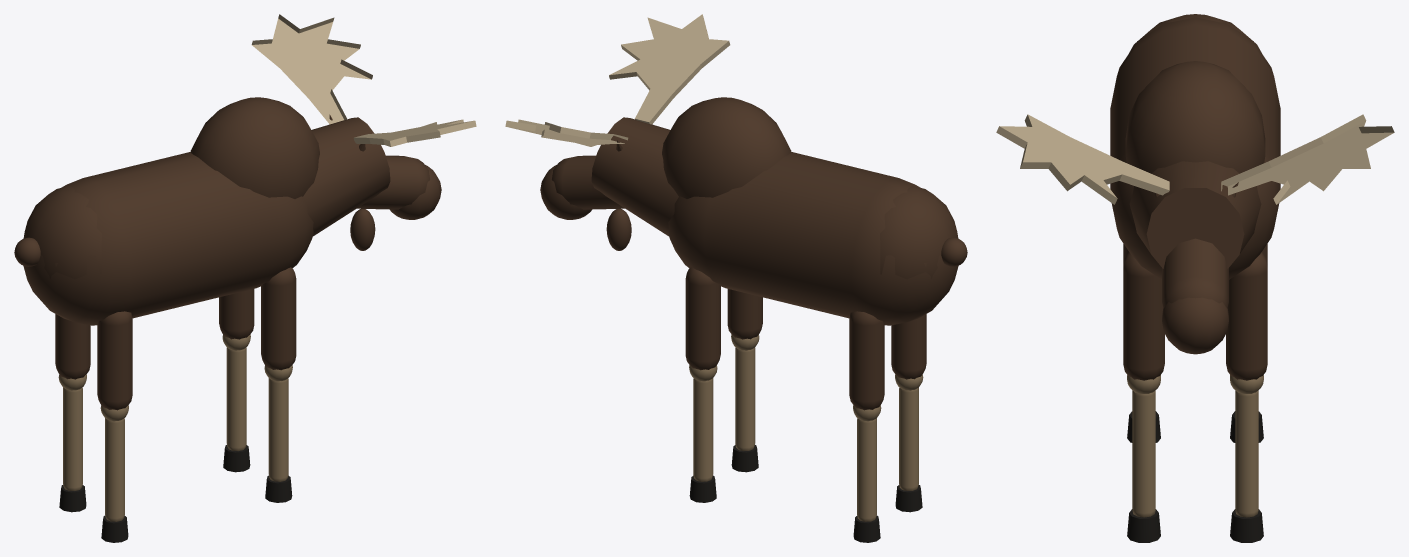
File: moose.glb
The picture shows the model from 3 angles, left to right: view 1: azimuth 30°, elevation 25°; view 2: azimuth 150°, elevation 25°; view 3: azimuth 270°, elevation 25°; orthographic projection. The views are drawn at different scales.
Visible parts, largest first — view 1: trunk_fur, trunk_antler, leg_fr_fur, leg_rr_fur, leg_fr_fur_light, leg_fl_fur_light, leg_rl_fur_light, leg_rr_fur_light, leg_rl_fur, leg_fl_fur, leg_rr_hoof, leg_fr_hoof (+2 smaller); view 2: trunk_fur, trunk_antler, leg_fl_fur, leg_rl_fur, leg_fl_fur_light, leg_fr_fur_light, leg_rl_fur_light, leg_rr_fur_light, leg_rr_fur, leg_fr_fur, leg_rl_hoof, leg_fl_hoof (+2 smaller); view 3: trunk_fur, trunk_antler, leg_fl_fur, leg_fr_fur, leg_fl_fur_light, leg_fr_fur_light, leg_fl_hoof, leg_fr_hoof.
Part boxes in pixels (bbox=[...]): trunk_fur: bbox=[14, 97, 441, 325]; trunk_antler: bbox=[251, 14, 476, 146]; leg_fr_fur: bbox=[261, 267, 296, 370]; leg_rr_fur: bbox=[97, 311, 132, 410]; leg_fr_fur_light: bbox=[264, 365, 292, 481]; leg_fl_fur_light: bbox=[222, 334, 250, 451]; leg_rl_fur_light: bbox=[58, 374, 86, 490]; leg_rr_fur_light: bbox=[100, 405, 128, 521]; leg_rl_fur: bbox=[55, 314, 90, 379]; leg_fl_fur: bbox=[219, 289, 254, 339]; leg_rr_hoof: bbox=[101, 515, 128, 542]; leg_fr_hoof: bbox=[265, 475, 292, 502]; trunk_fur: bbox=[540, 97, 967, 325]; trunk_antler: bbox=[505, 14, 730, 146]; leg_fl_fur: bbox=[685, 267, 720, 370]; leg_rl_fur: bbox=[849, 311, 884, 410]; leg_fl_fur_light: bbox=[689, 365, 717, 481]; leg_fr_fur_light: bbox=[731, 334, 759, 451]; leg_rl_fur_light: bbox=[853, 405, 881, 521]; leg_rr_fur_light: bbox=[895, 374, 923, 490]; leg_rr_fur: bbox=[891, 314, 926, 379]; leg_fr_fur: bbox=[727, 289, 762, 339]; leg_rl_hoof: bbox=[853, 515, 880, 542]; leg_fl_hoof: bbox=[689, 475, 716, 502]; trunk_fur: bbox=[1110, 14, 1280, 354]; trunk_antler: bbox=[996, 114, 1394, 204]; leg_fl_fur: bbox=[1226, 252, 1267, 380]; leg_fr_fur: bbox=[1123, 252, 1164, 380]; leg_fl_fur_light: bbox=[1230, 375, 1263, 517]; leg_fr_fur_light: bbox=[1127, 375, 1160, 517]; leg_fl_hoof: bbox=[1230, 509, 1263, 542]; leg_fr_hoof: bbox=[1127, 509, 1160, 542].
Bounding box in the file's own units: 2.32 × 2.02 × 1.55.
